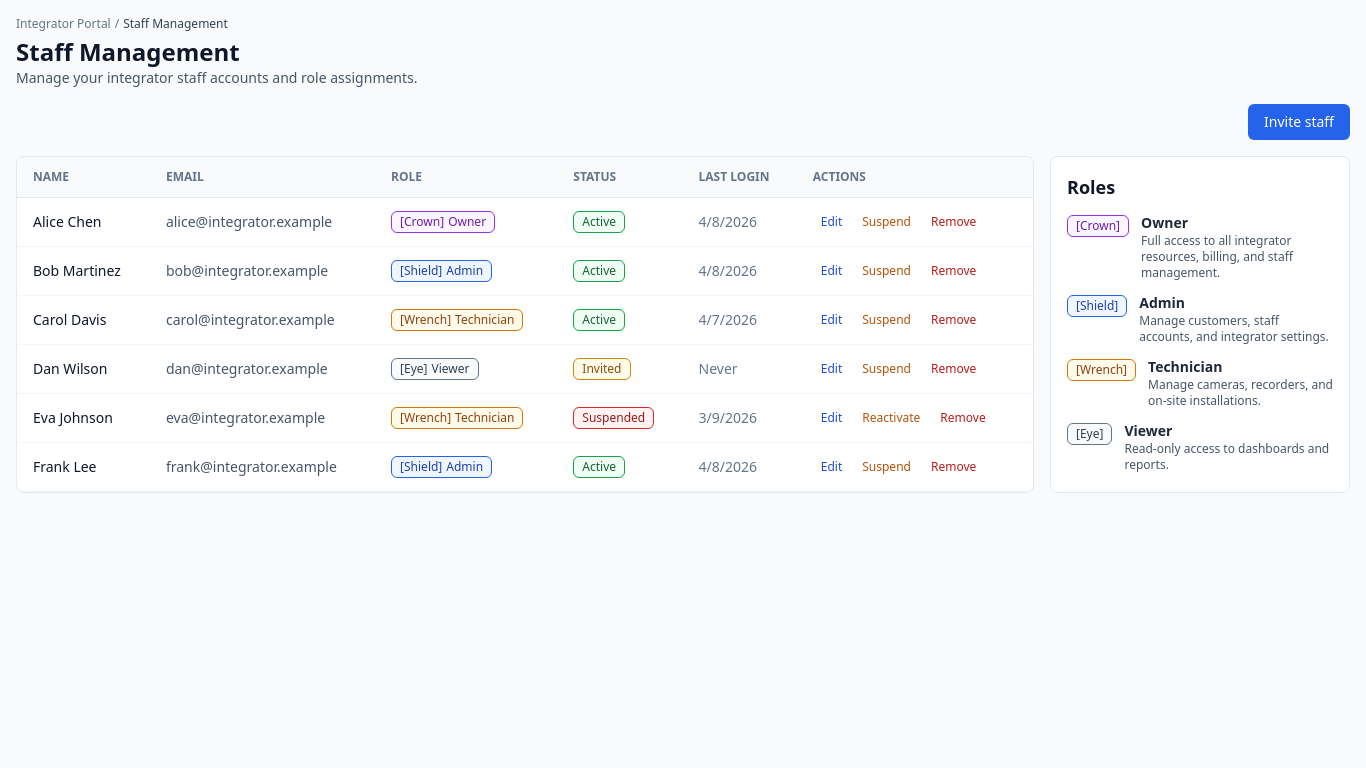
it: StaffPage › remove: requires typing REMOVE to enable confirm button
The image size is (1366, 768).
Expected: the table with test id "staff-table" is shown, 17,157 -> 1033,492
# Click remove on Frank Lee (staff-006)
Click the button with test id "remove-staff-006" at (954, 467), box 923,455 -> 984,479
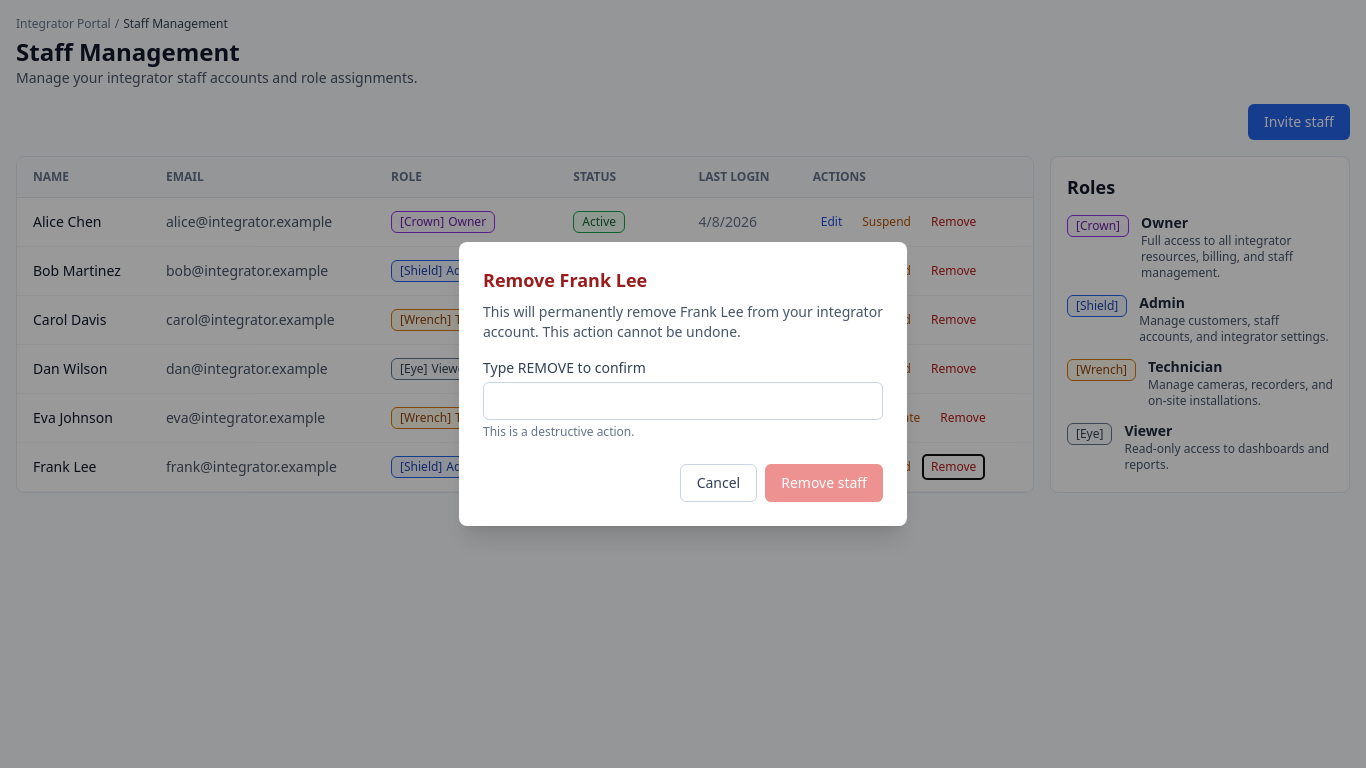
Now the dialog with test id "remove-dialog" is shown
Now the button with test id "remove-confirm" is disabled, box 765,464 -> 883,502
# Type wrong text
Type "remove" into the field with test id "remove-confirm-input" at (683, 401), box 483,382 -> 883,420
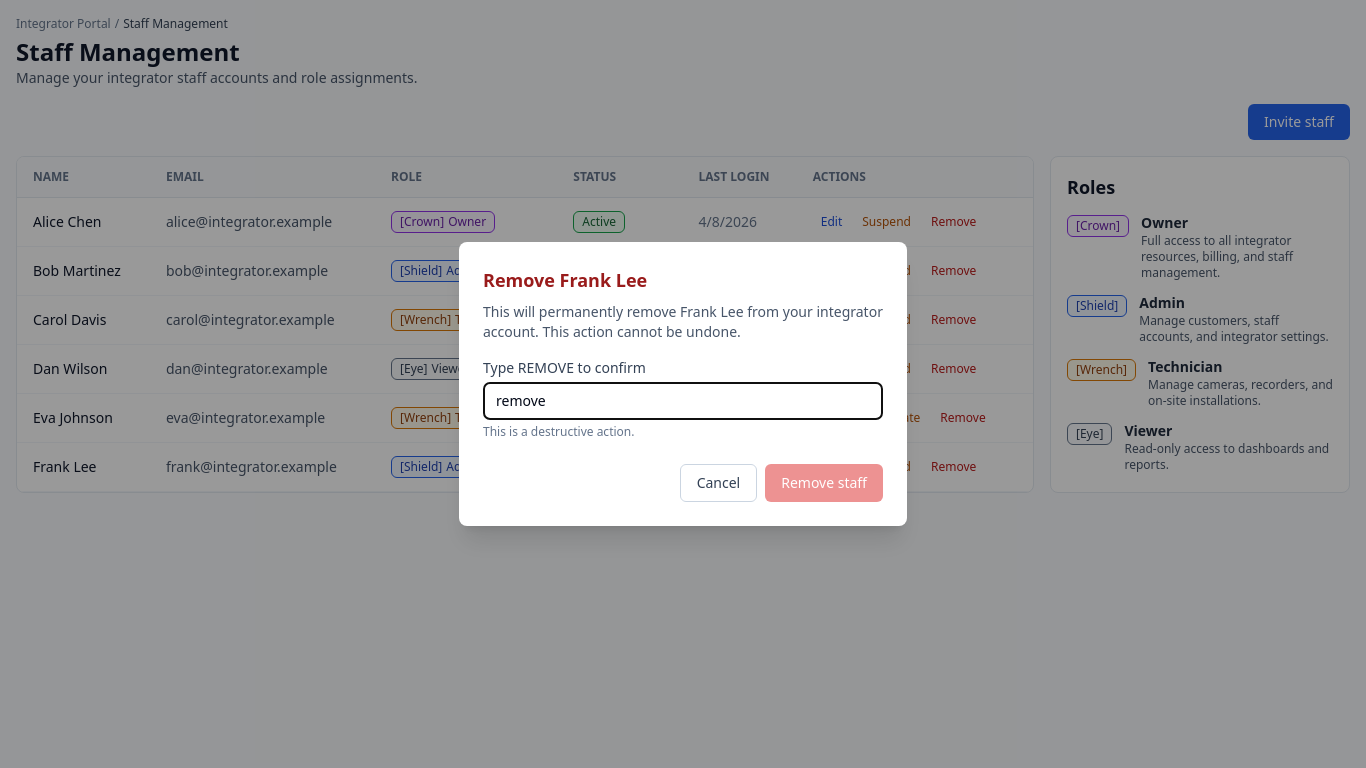
Now the button with test id "remove-confirm" is disabled, box 765,464 -> 883,502
# Type correct REMOVE
Replace the text in the field with test id "remove-confirm-input" with "REMOVE" at (683, 401), box 483,382 -> 883,420
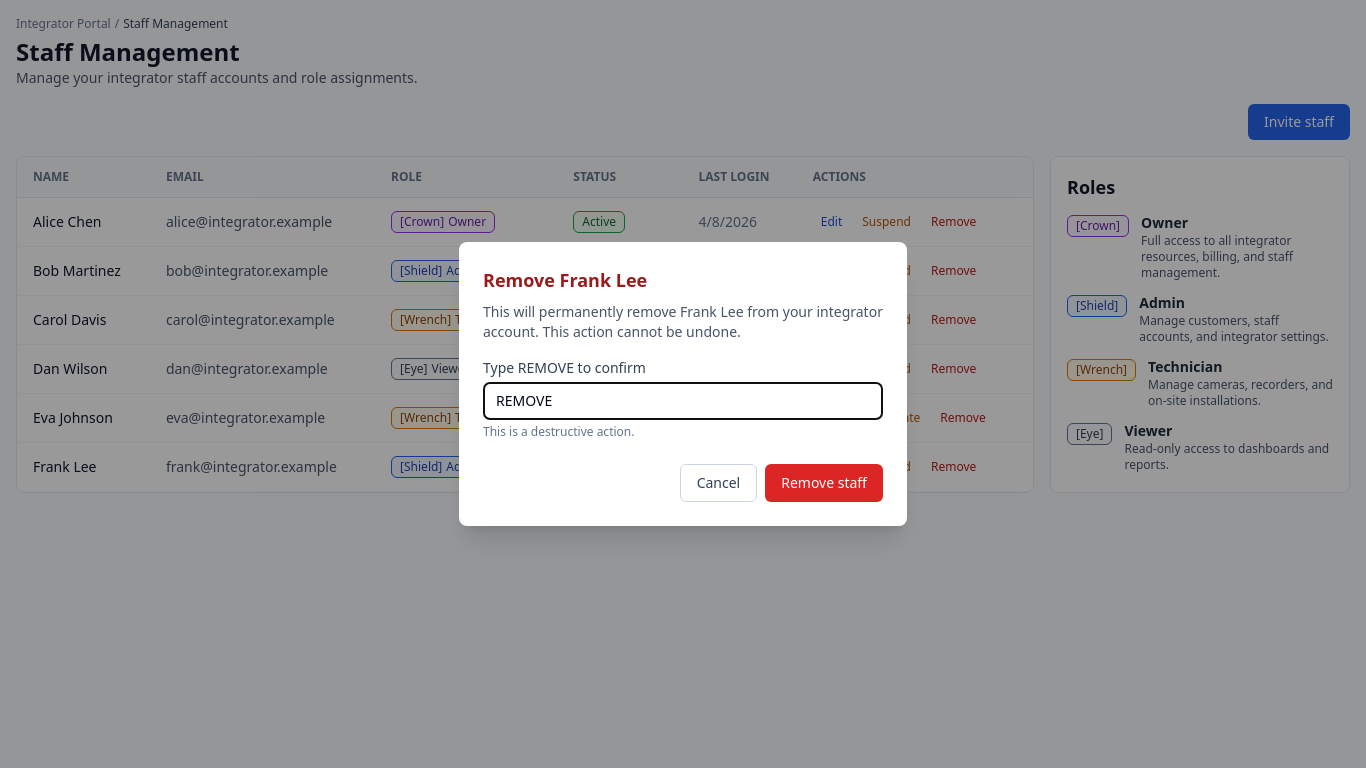
Now the button with test id "remove-confirm" is enabled
# Click confirm
Click the button with test id "remove-confirm" at (824, 483), box 765,464 -> 883,502
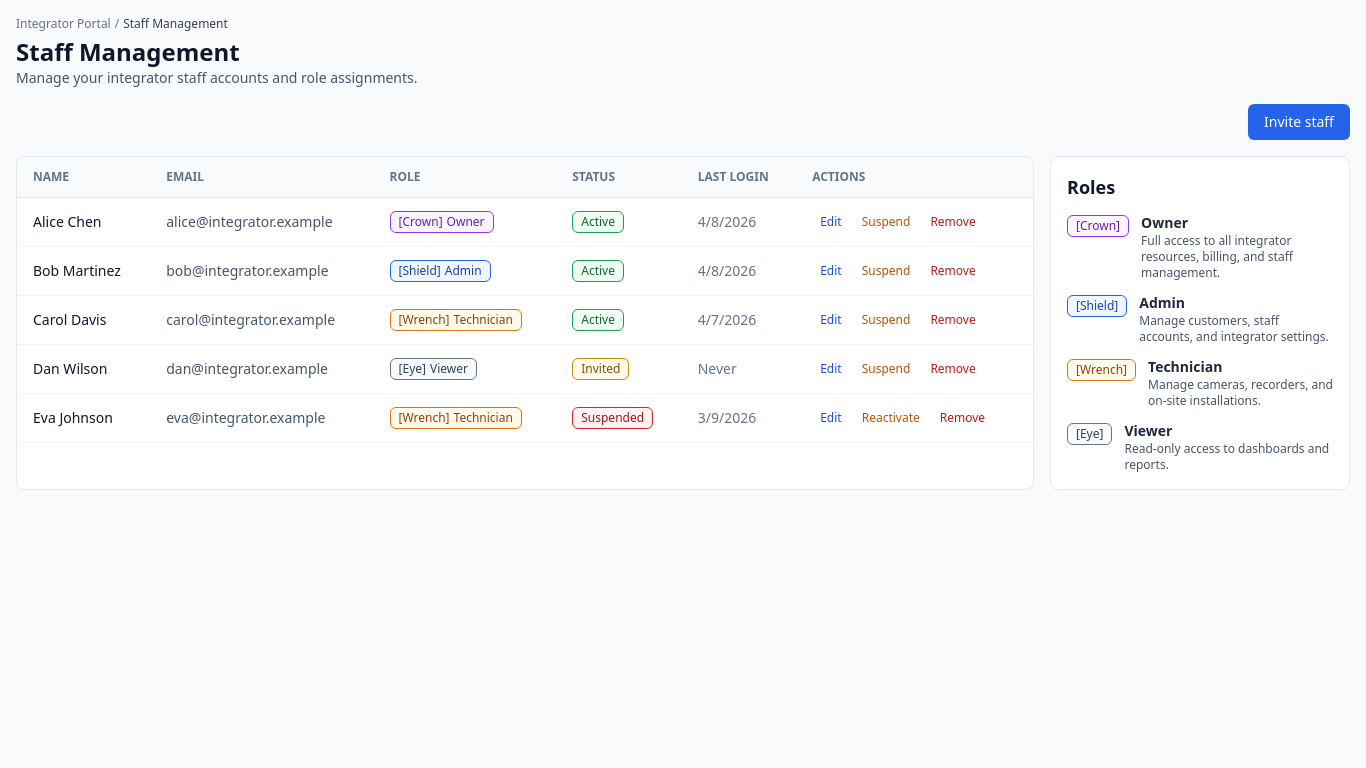
Now the dialog with test id "remove-dialog" is gone
